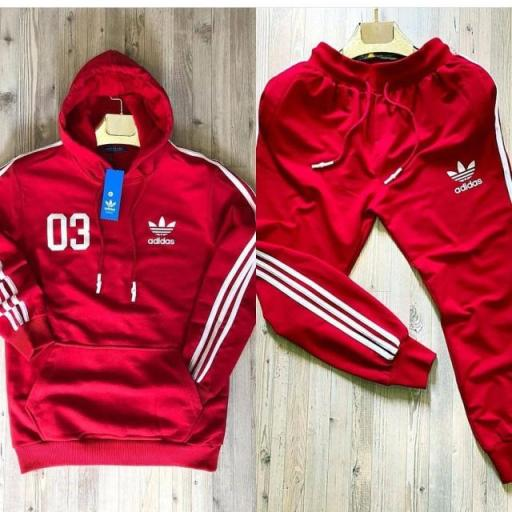Adidas: (444, 158, 485, 197), (143, 211, 181, 249)
